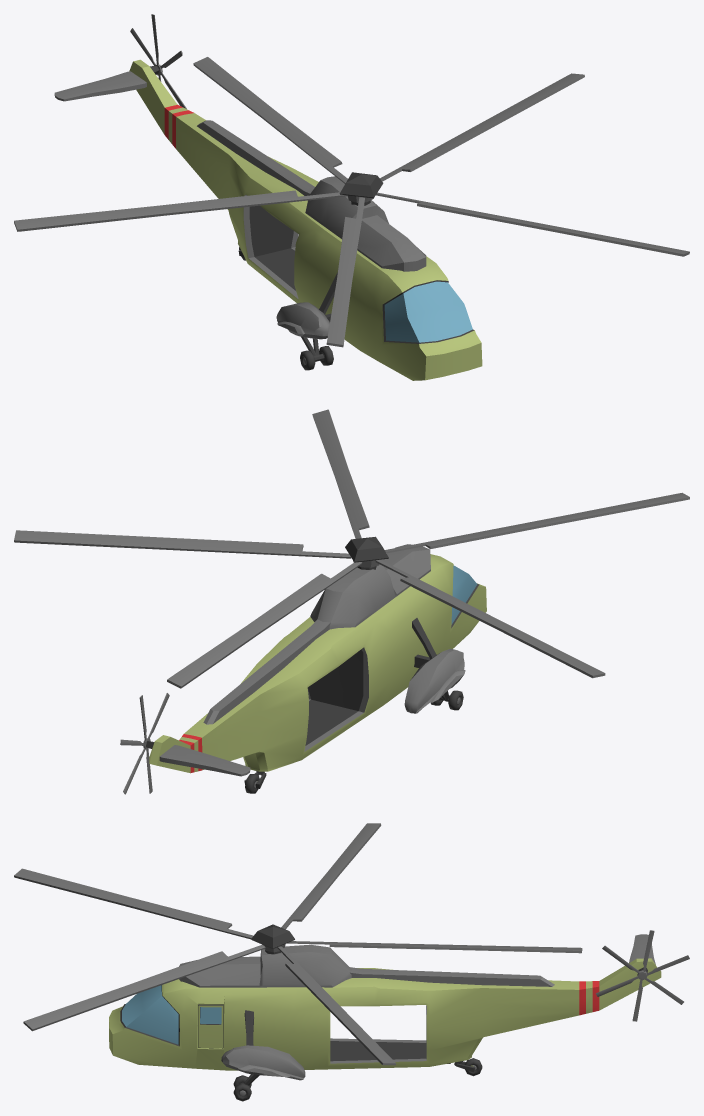
File: helicopter.fbx
3 views of the same model, one above another, from view 1: azimuth 30°, elevation 25°; view 2: azimuth 150°, elevation 25°; view 3: azimuth 270°, elevation 25° (orthographic). The views are drawn at different scales.
Parts seen in each view (by area): view 1: body_yellow, front_rotate, back_rotate; view 2: body_yellow, front_rotate, back_rotate; view 3: body_yellow, front_rotate, back_rotate, wheel_back.
Part boxes in pixels (x1,y1,x2,y2): body_yellow: [54, 59, 482, 380]; front_rotate: [14, 57, 689, 347]; back_rotate: [130, 14, 186, 108]; body_yellow: [146, 536, 486, 788]; front_rotate: [14, 409, 689, 688]; back_rotate: [120, 693, 169, 794]; body_yellow: [109, 924, 661, 1085]; front_rotate: [14, 823, 582, 1065]; back_rotate: [596, 930, 689, 1021]; wheel_back: [233, 1058, 482, 1101].
Size of the model in its own units: 991 by 278 by 1148.
